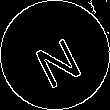N_NW: (26, 23, 84, 87)
